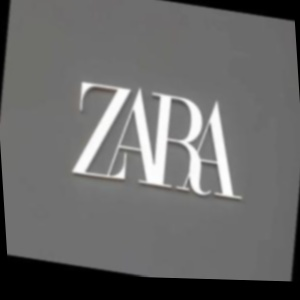zara: (219, 40, 287, 121)
